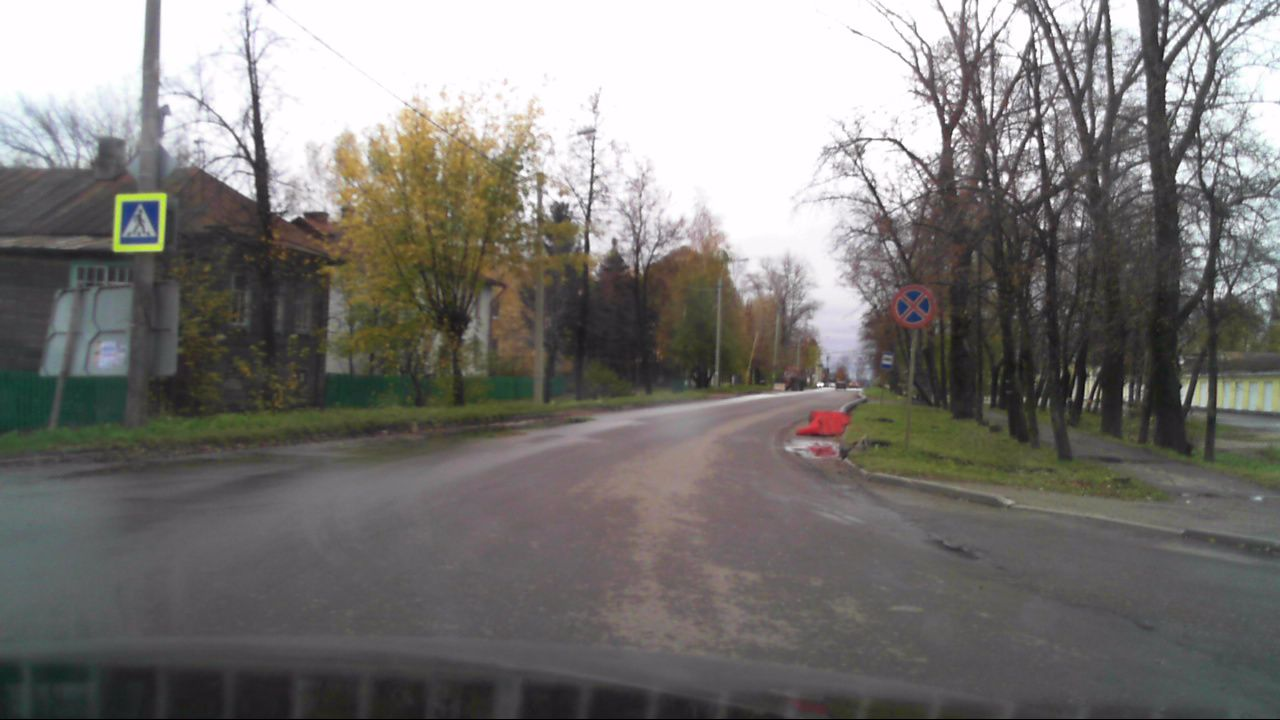No Parking: (894, 285, 935, 329)
